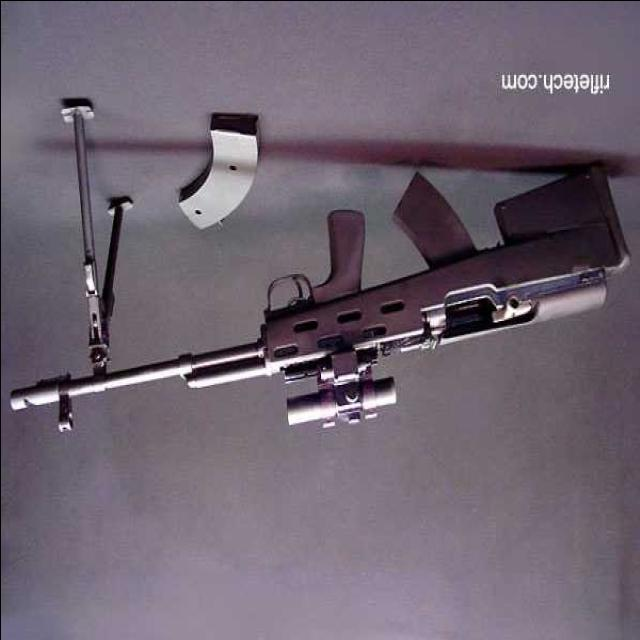heavyweapon: (5, 138, 635, 495)
